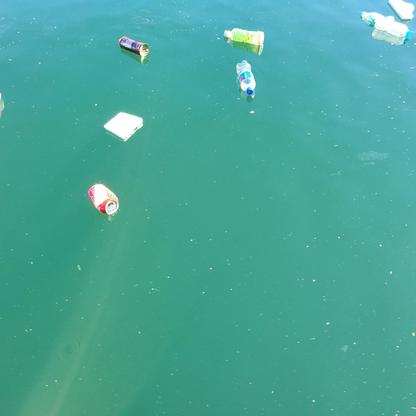can: (86, 182, 119, 215), (117, 34, 150, 56)
foam: (104, 109, 145, 141)
plastic bottle: (370, 19, 411, 40), (233, 58, 256, 94), (224, 26, 265, 45), (355, 9, 392, 26)
